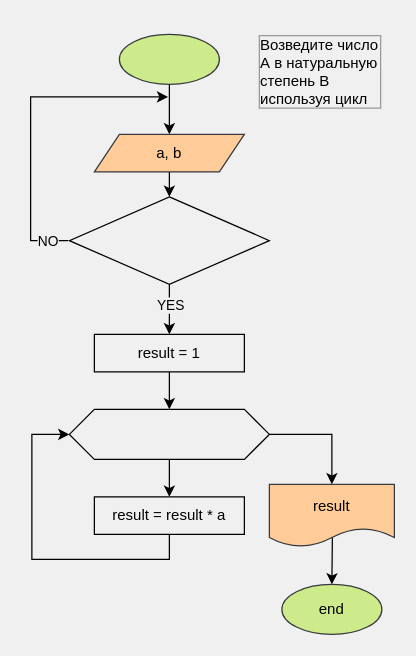
Image size: 416x656. Some labels were removed from this diagram. Here are the shapes that lost their labels. From the top down, the centre of each, then its label:
At (x=168, y=58): "start".
At (x=168, y=240): "a ∈ Q && b ∈ N".
At (x=168, y=433): "i = 1, b, 1".
